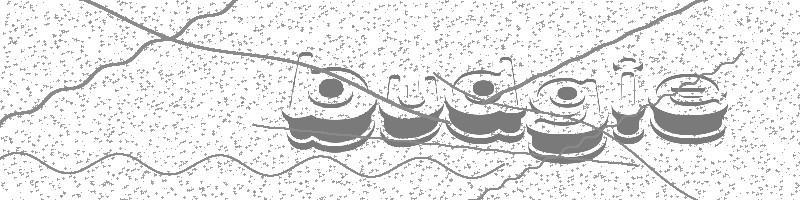b: (281, 50, 377, 153)
d: (443, 55, 528, 144)
e: (647, 73, 727, 145)
g: (526, 76, 609, 166)
i: (610, 57, 646, 145)
u: (382, 73, 441, 148)
